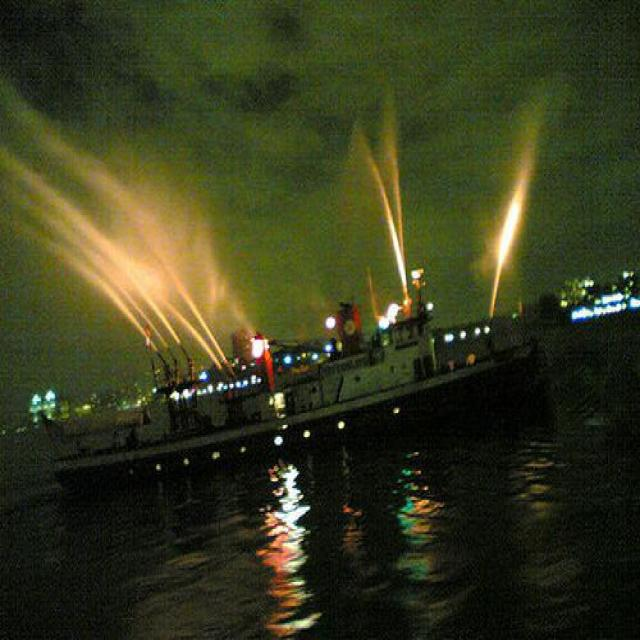Boat: (23, 310, 568, 463)
